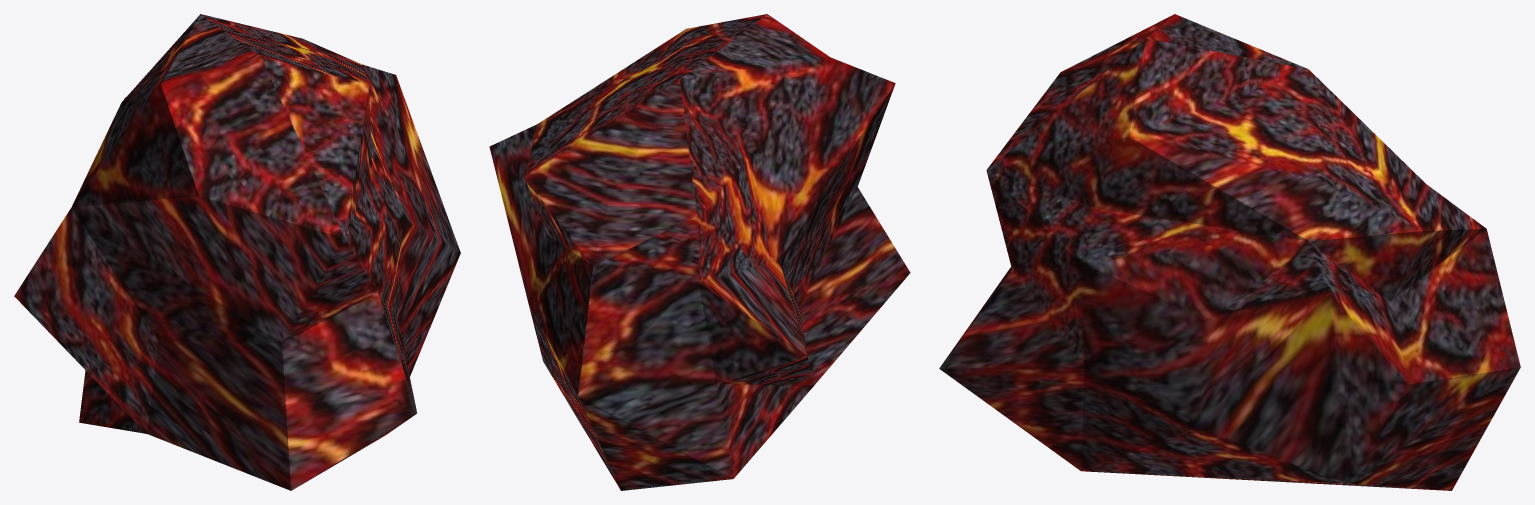
The model's file is Rockasset2Texture.fbx.
The picture shows the model from 3 angles, left to right: view 1: azimuth 30°, elevation 25°; view 2: azimuth 150°, elevation 25°; view 3: azimuth 270°, elevation 25°; orthographic projection. The views are drawn at different scales.
Parts seen in each view (by area): view 1: pCube1; view 2: pCube1; view 3: pCube1.
Boxes of the visible parts, box(x1,y1,x2,y2) form: pCube1: box(14, 14, 460, 490); pCube1: box(489, 14, 910, 490); pCube1: box(939, 14, 1520, 490).
Size of the model in its own units: 1.38 by 1.54 by 1.83.
